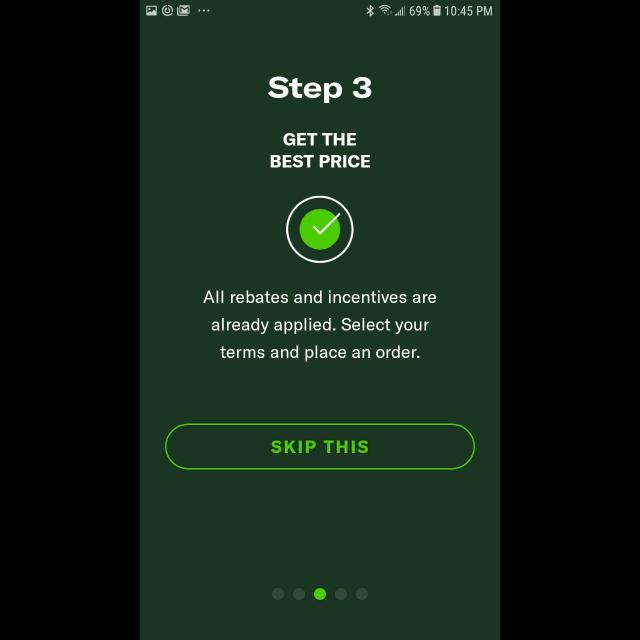image: (286, 196, 354, 264)
pageindicator: (272, 588, 368, 600)
text: (204, 290, 436, 362), (270, 132, 370, 168), (268, 76, 372, 104)
textbutton: (165, 422, 475, 470)
uppertaskbar: (140, 1, 500, 22)
